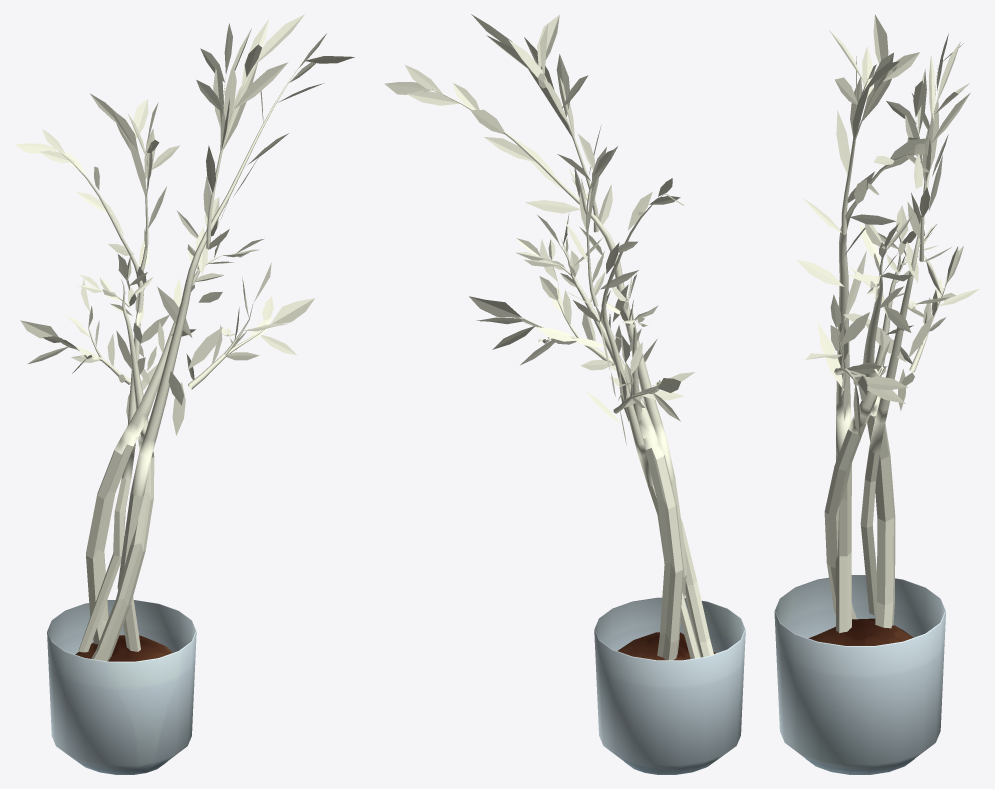
Rendered from Shrubs.001.fbx.
3 views of the same model, side by side, from view 1: azimuth 30°, elevation 25°; view 2: azimuth 150°, elevation 25°; view 3: azimuth 270°, elevation 25° (orthographic). The views are drawn at different scales.
Visible parts, largest first — view 1: Shrubs.001; view 2: Shrubs.001; view 3: Shrubs.001.
Boxes of the visible parts, <box> form: Shrubs.001: <box>14,14,354,774</box>; Shrubs.001: <box>384,14,745,774</box>; Shrubs.001: <box>774,14,979,774</box>.
Size of the model in its own units: 167 by 346 by 80.6.
